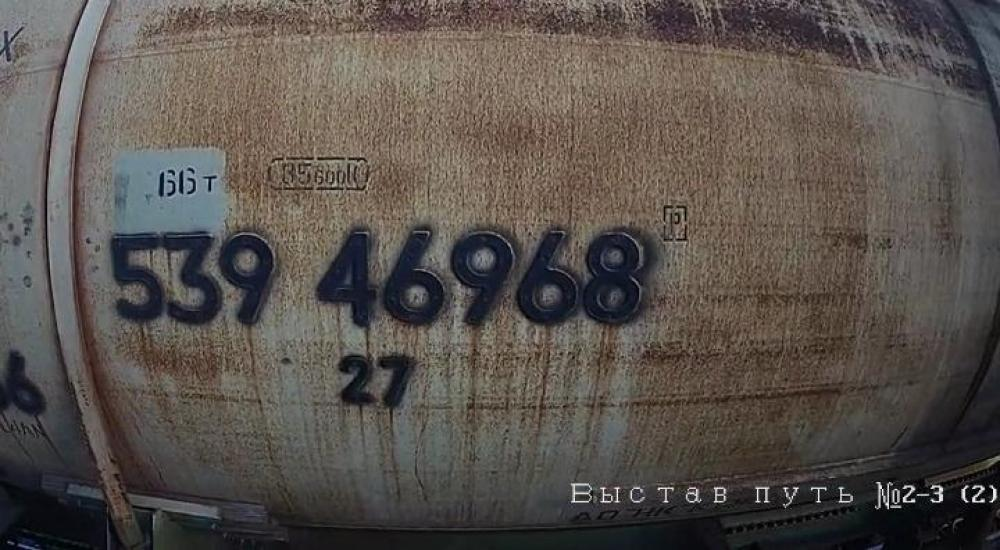Wagon-number: (102, 222, 656, 333)
